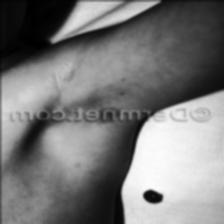Unclassified: (90, 103, 120, 125)
